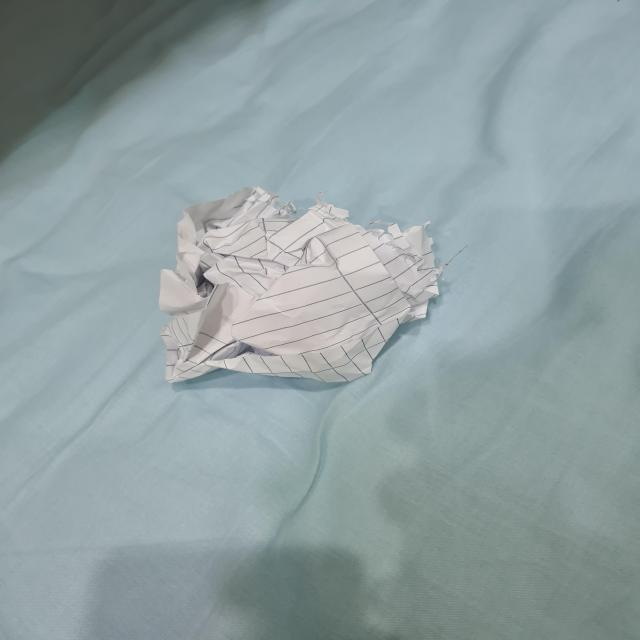cardboard paper: (158, 186, 437, 380)
